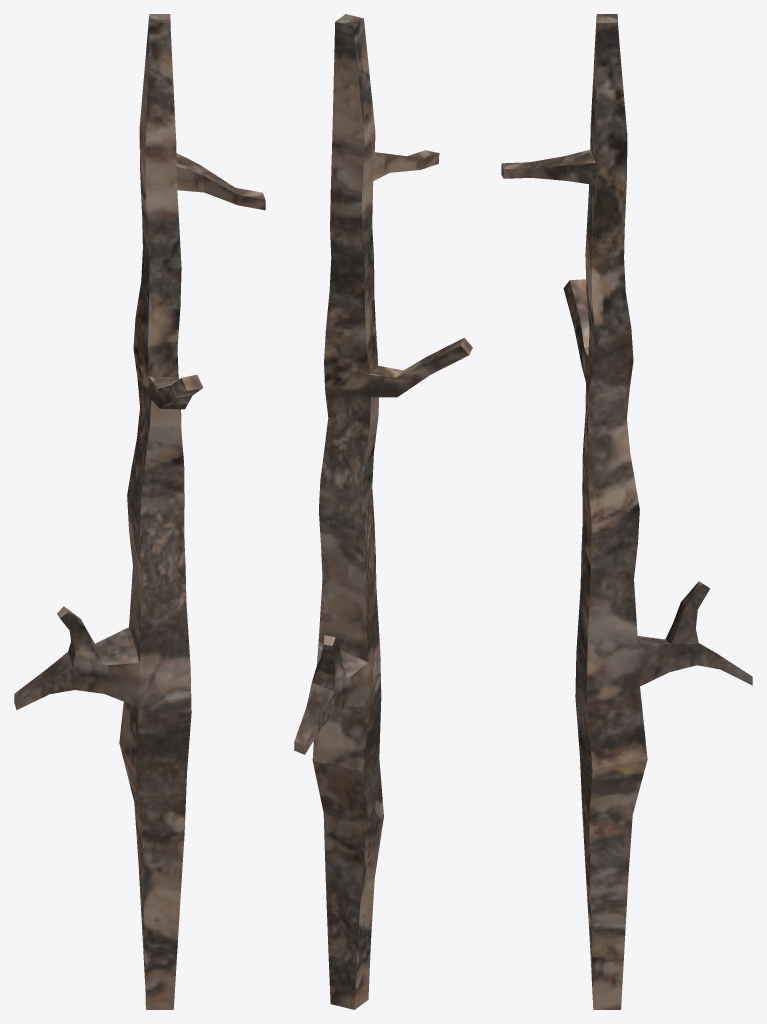
File: ramo.glb
The picture shows the model from 3 angles, left to right: view 1: azimuth 90°, elevation 25°; view 2: azimuth 150°, elevation 25°; view 3: azimuth 270°, elevation 25°; orthographic projection.
Visible parts, largest first — view 1: Cube; view 2: Cube; view 3: Cube.
Part boxes in pixels (bbox=[...]): Cube: bbox=[14, 14, 265, 1009]; Cube: bbox=[294, 14, 472, 1009]; Cube: bbox=[501, 14, 752, 1009].
Bounding box in the file's own units: 0.5257 × 3.62 × 0.8368.
1 material, 1 textured.
